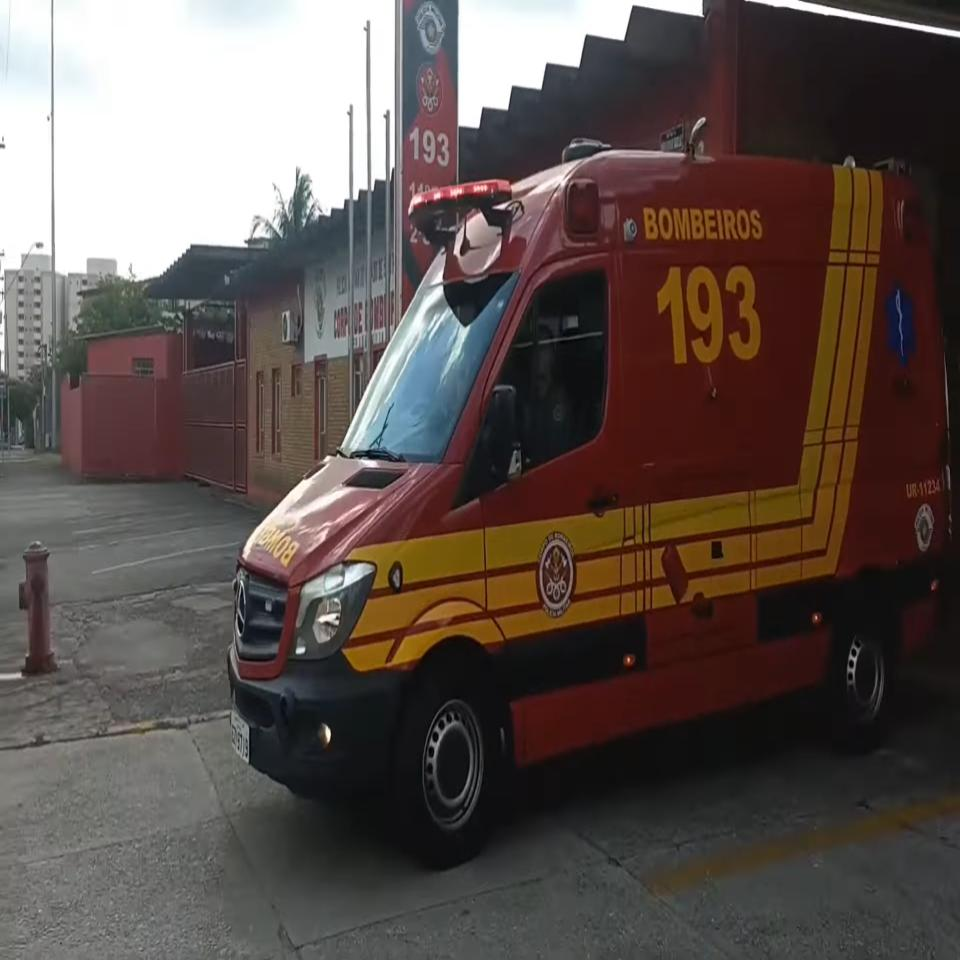viatura: (226, 114, 954, 863)
